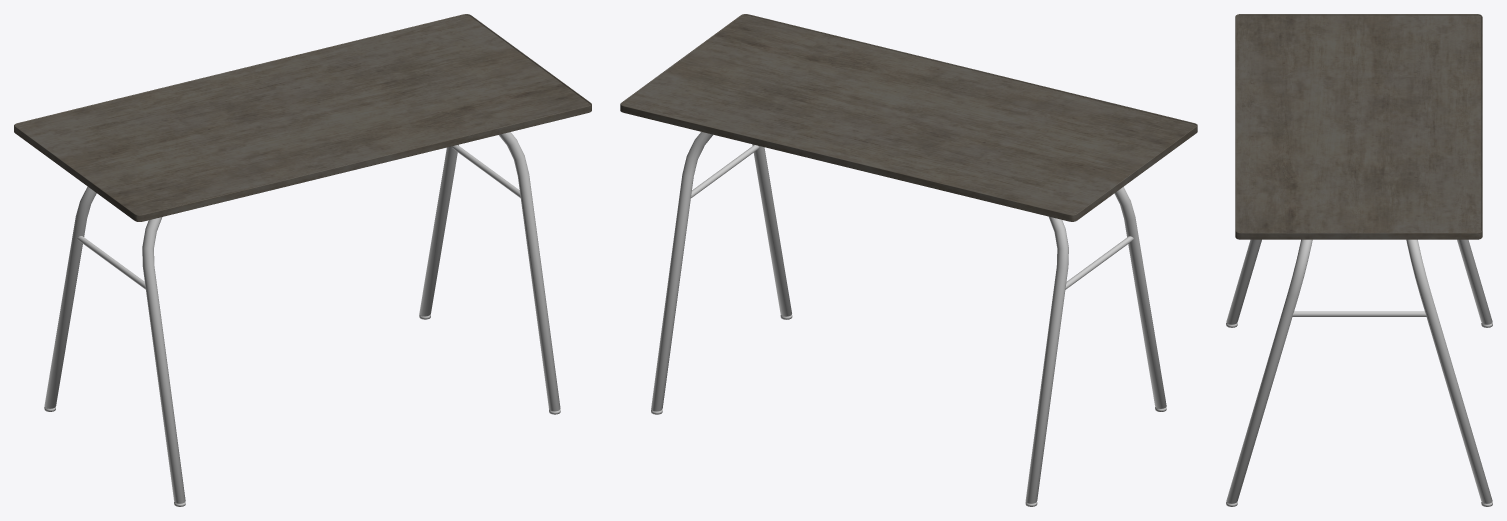
Rendered from Student_Table.FBX.
The picture shows the model from 3 angles, left to right: view 1: azimuth 30°, elevation 25°; view 2: azimuth 150°, elevation 25°; view 3: azimuth 270°, elevation 25°; orthographic projection.
Visible parts, largest first — view 1: Box004; view 2: Box004; view 3: Box004.
Part boxes in pixels (x1,y1,x2,y2): Box004: (14,14,591,506); Box004: (620,14,1197,506); Box004: (1226,14,1492,506).
Bounding box in the file's own units: 48.78 × 30.3 × 25.08.
